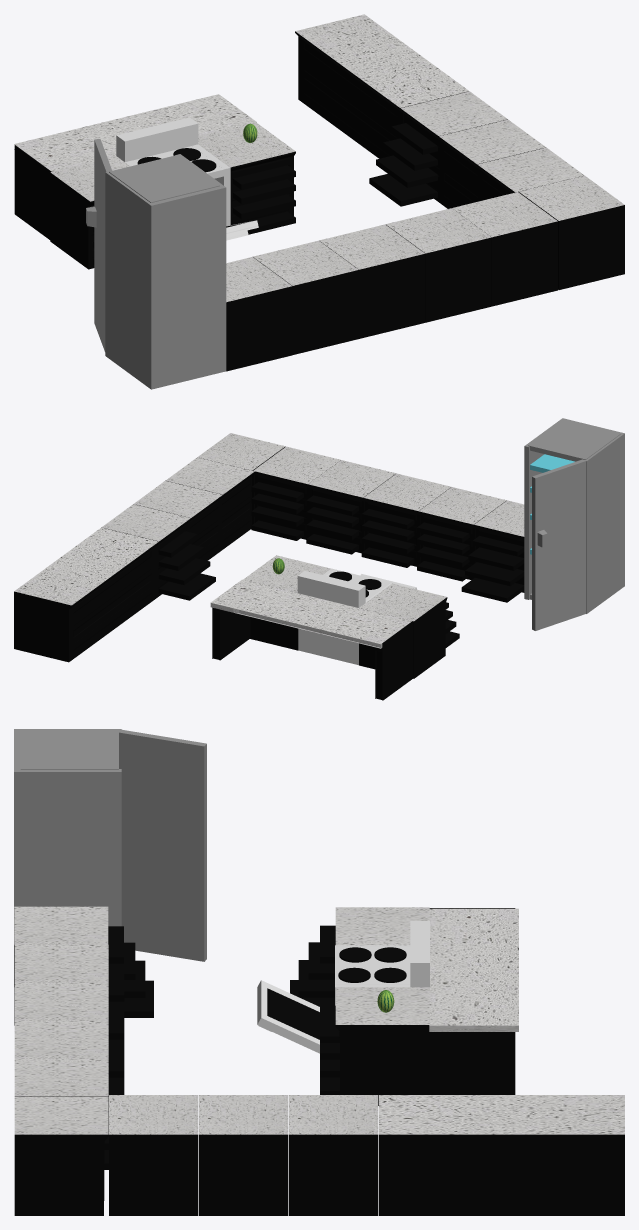
Rendered from kitchen.fbx.
3 views of the same model, one above another, from view 1: azimuth 30°, elevation 25°; view 2: azimuth 150°, elevation 25°; view 3: azimuth 270°, elevation 25° (orthographic). The views are drawn at different scales.
Visible parts, largest first — view 1: Cube.045, Cube.048, Cube.047, Cube.037, Cube.027, Cube.022, Cube.006, Cube.036, Cube.017, Cube.067, Cube.039, Cube.016 (+17 smaller); view 2: Cube.045, Cube.055, Cube.067, Cube.047, Cube.016, Cube.038, Cube.039, Cube.027, Cube.006, Cube.036, Cube.022, Cube.007 (+34 smaller); view 3: Cube.045, Cube.055, Cube.046, Cube.067, Cube.037, Cube.038, Cube.039, Cube.044, Cube.007, Cube.003, Cube.049, Cube.017 (+12 smaller).
Boxes of the visible parts, x1,y1,x2,y2 form: Cube.045: (295, 14, 469, 158); Cube.048: (154, 186, 221, 387); Cube.047: (105, 171, 156, 389); Cube.037: (518, 175, 624, 289); Cube.027: (386, 208, 491, 322); Cube.022: (253, 240, 358, 354); Cube.006: (319, 224, 425, 338); Cube.036: (452, 192, 557, 306); Cube.017: (226, 257, 292, 371); Cube.067: (14, 94, 256, 171); Cube.039: (438, 119, 545, 208); Cube.016: (50, 156, 129, 269); Cube.045: (14, 527, 158, 662); Cube.055: (532, 459, 585, 630); Cube.067: (210, 579, 412, 648); Cube.047: (584, 432, 624, 613); Cube.016: (359, 583, 447, 678); Cube.038: (165, 457, 254, 551); Cube.039: (133, 481, 222, 560); Cube.027: (308, 460, 396, 553); Cube.006: (363, 473, 451, 566); Cube.036: (253, 446, 340, 539); Cube.022: (418, 487, 506, 579); Cube.007: (243, 555, 330, 650); Cube.045: (379, 1095, 624, 1215); Cube.055: (119, 729, 206, 961); Cube.046: (14, 769, 121, 986); Cube.067: (429, 908, 518, 1031); Cube.037: (14, 1097, 108, 1215); Cube.038: (109, 1095, 198, 1215); Cube.039: (199, 1095, 288, 1215); Cube.044: (289, 1095, 378, 1215); Cube.007: (335, 987, 429, 1105); Cube.003: (425, 1025, 515, 1094); Cube.049: (20, 729, 118, 769); Cube.017: (14, 906, 108, 1025).
Bounding box in the file's own units: 24.94 × 23.76 × 9.3.
